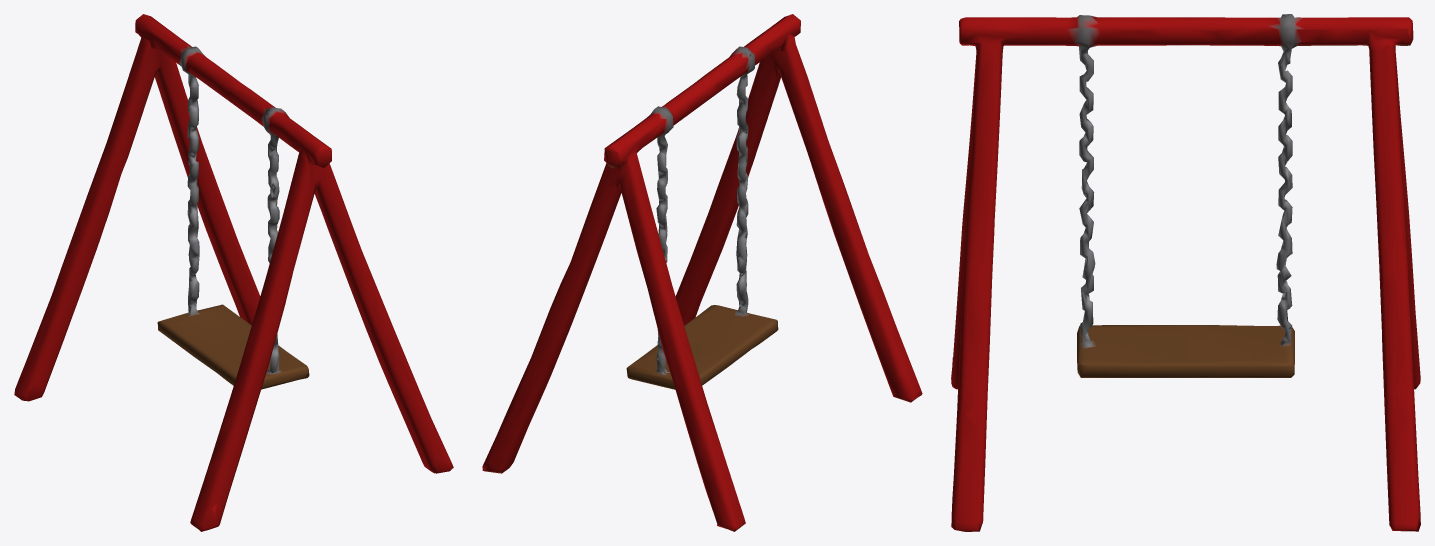
File: gen3d-swing-lod0.glb
3 views of the same model, side by side, from view 1: azimuth 30°, elevation 25°; view 2: azimuth 150°, elevation 25°; view 3: azimuth 270°, elevation 25° (orthographic). The views are drawn at different scales.
Parts seen in each view (by area): view 1: part_0; view 2: part_0; view 3: part_0.
Boxes of the visible parts, x1,y1,x2,y2 form: part_0: (14, 14, 453, 531); part_0: (482, 14, 922, 531); part_0: (951, 14, 1420, 531).
Size of the model in its own units: 0.7519 by 0.9987 by 0.9669.
